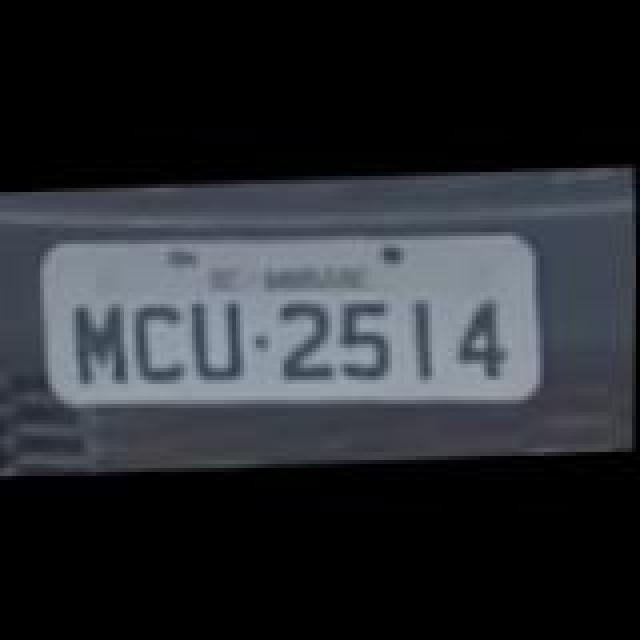1: (408, 298, 432, 378)
2: (278, 298, 338, 378)
4: (452, 296, 508, 376)
5: (334, 296, 394, 376)
C: (130, 298, 190, 378)
M: (70, 300, 130, 380)
U: (190, 298, 250, 378)
